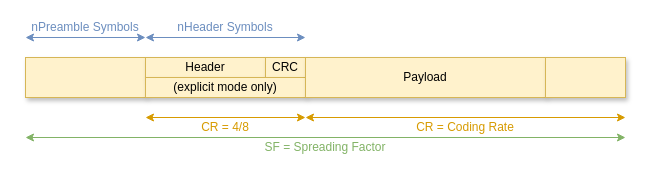
Some shapes in this 652 by 174 pixel diagram are drawn without their labels. Here are the shapes that lost their labels. From the top down, the centre of each, then its label:
(x=86, y=78): Preamble
(x=586, y=78): Payload CRC
